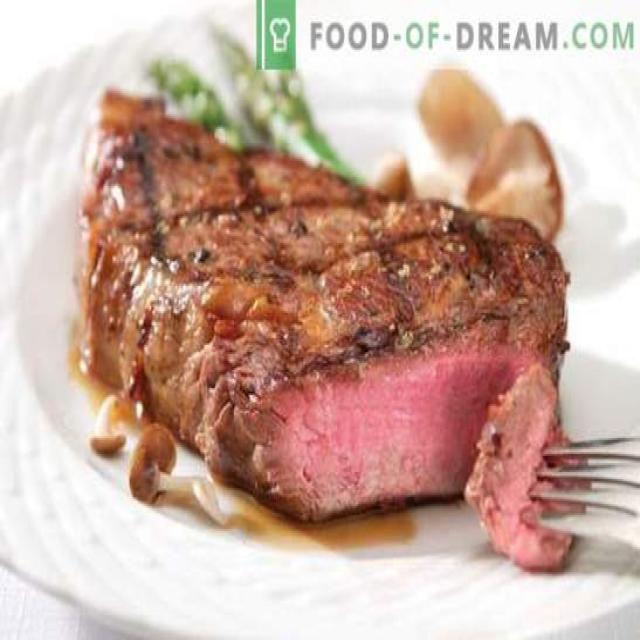Carne: (74, 81, 578, 568)
